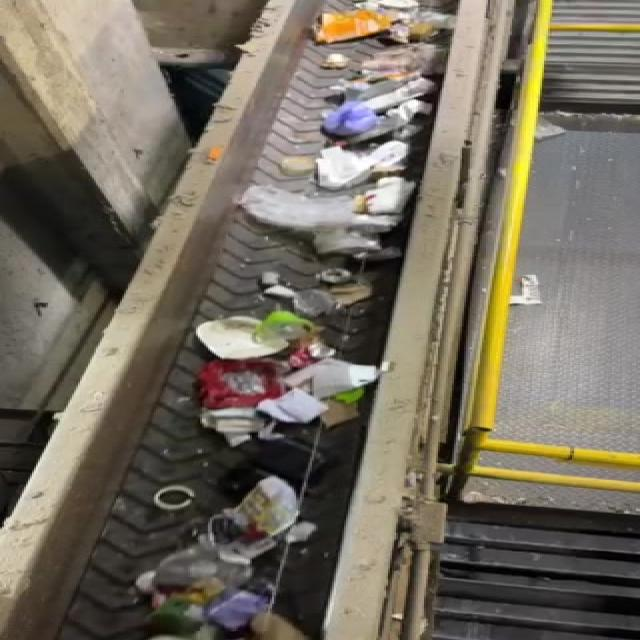pp: (235, 482, 319, 556)
